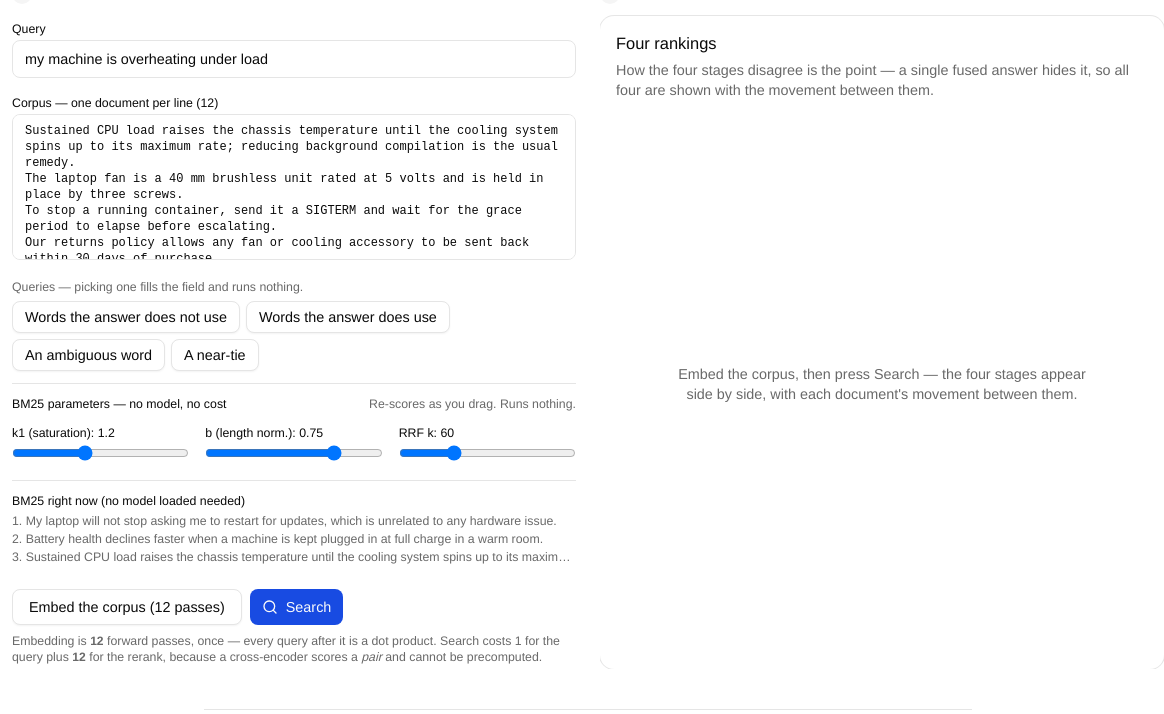
it: TextRankingPage › runs nothing when a sample query is picked
This screenshot has width=1164, height=714.
(page scrolled)
Click the button "An ambiguous word": (89, 354) [12,338,165,370]
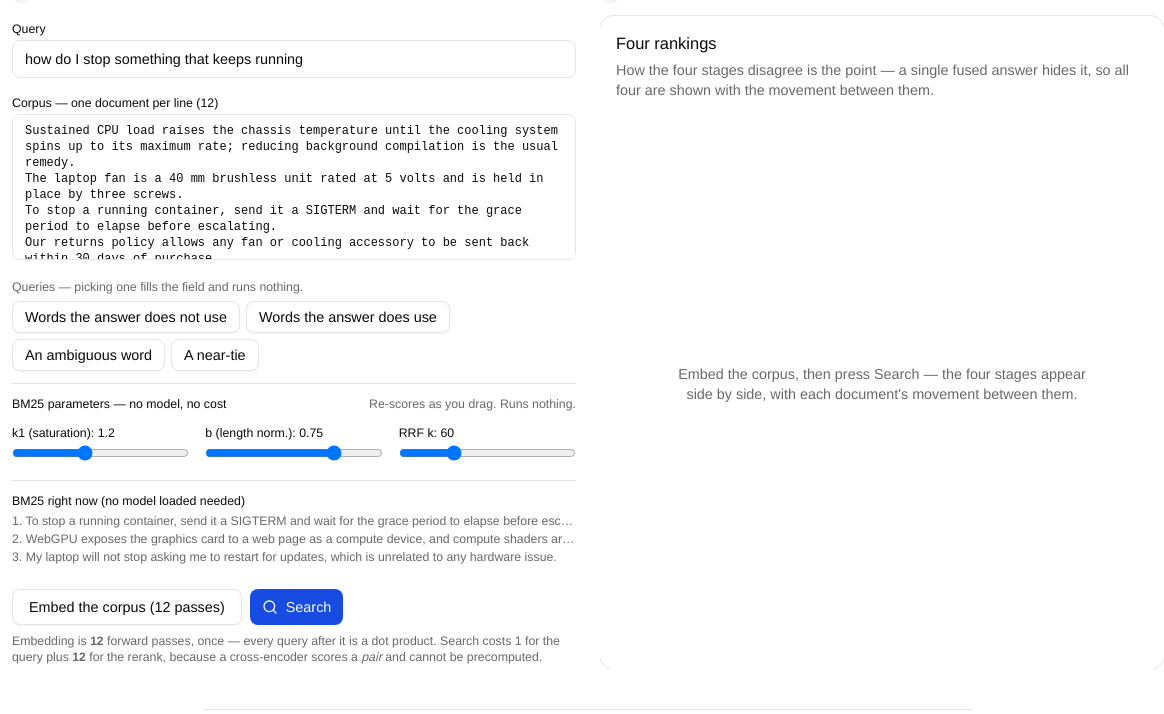
Check: the field labelled "Query" holds "how do I stop something that keeps running", box [12,40,576,78]
